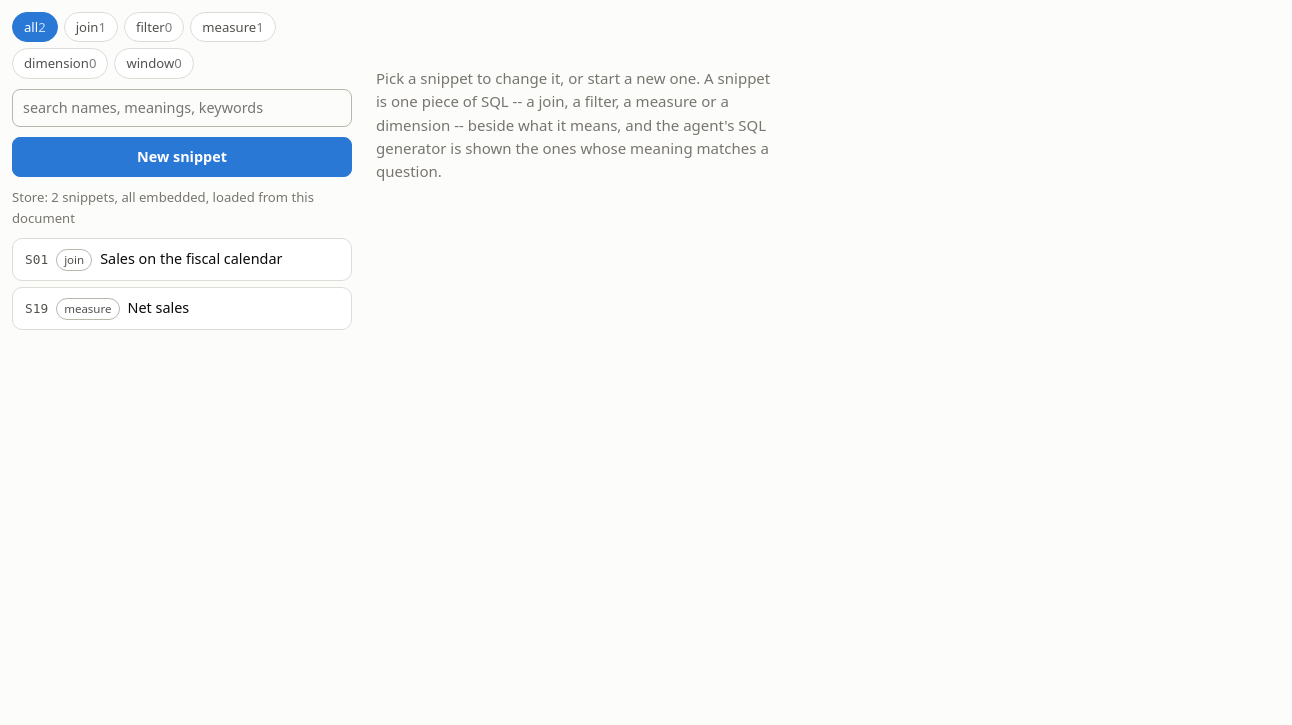
Test: writing one › shows the hint for each kind and none for a kind it does not know
The image size is (1292, 725).
Click the button "New snippet".
click(182, 157)  # box [12,137,352,177]
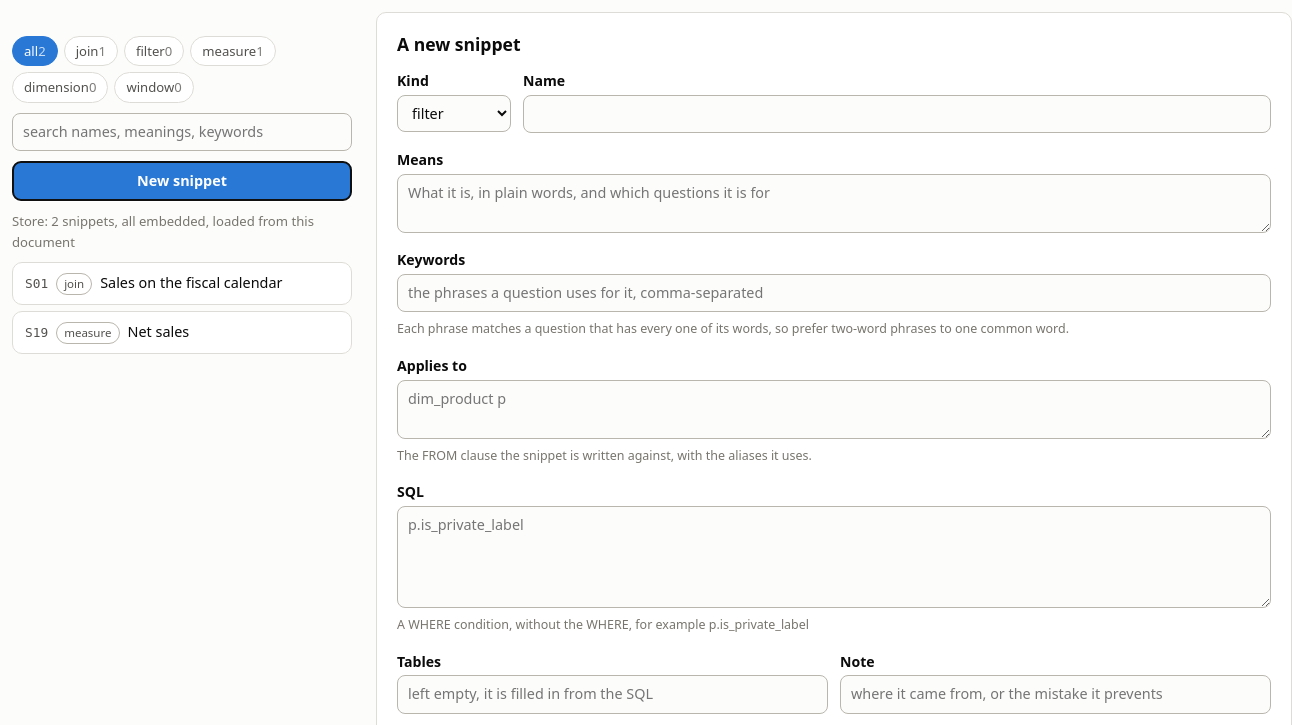
Check: the text "A WHERE condition, without the WHERE" is shown, box [397,616,629,633]
Select "join" in the dropdown labelled "Kind" at (454, 114), box [397,95,511,132]
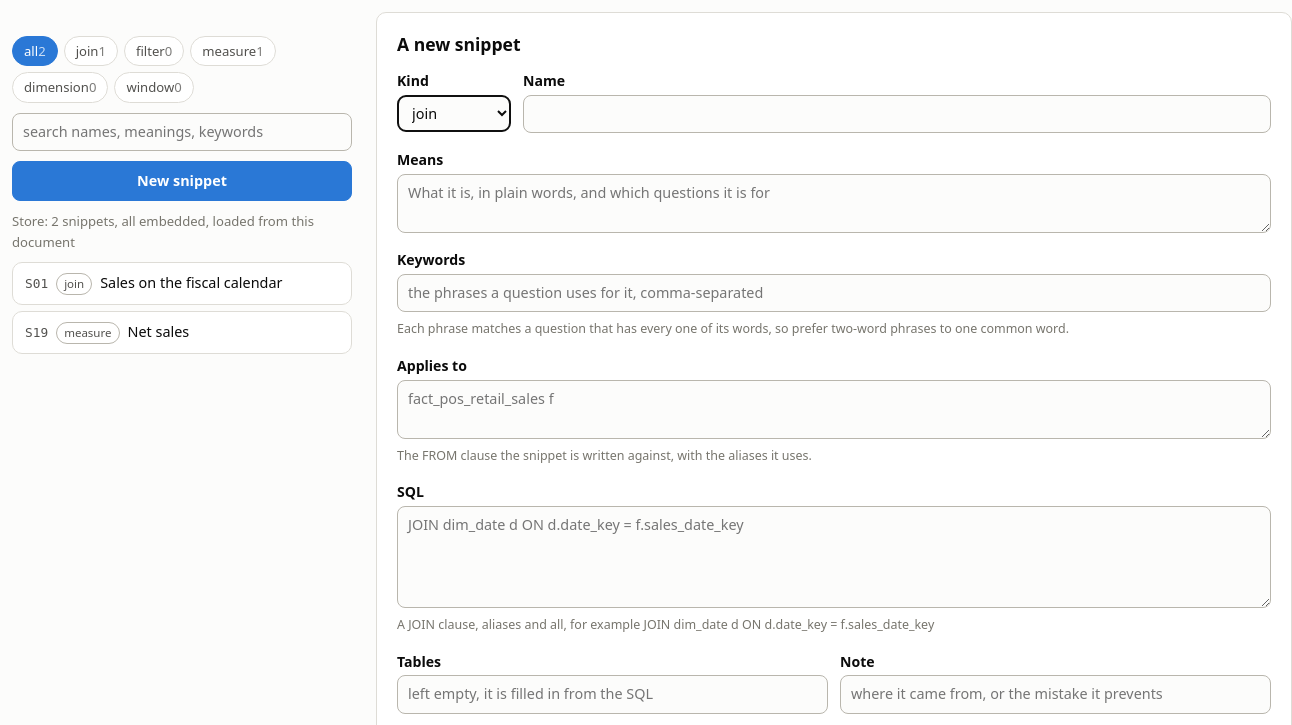
Check: the text "A JOIN clause, aliases and all" is shown, box [397,616,564,633]
Select "window" in the dropdown labelled "Kind" at (454, 114), box [397,95,511,132]
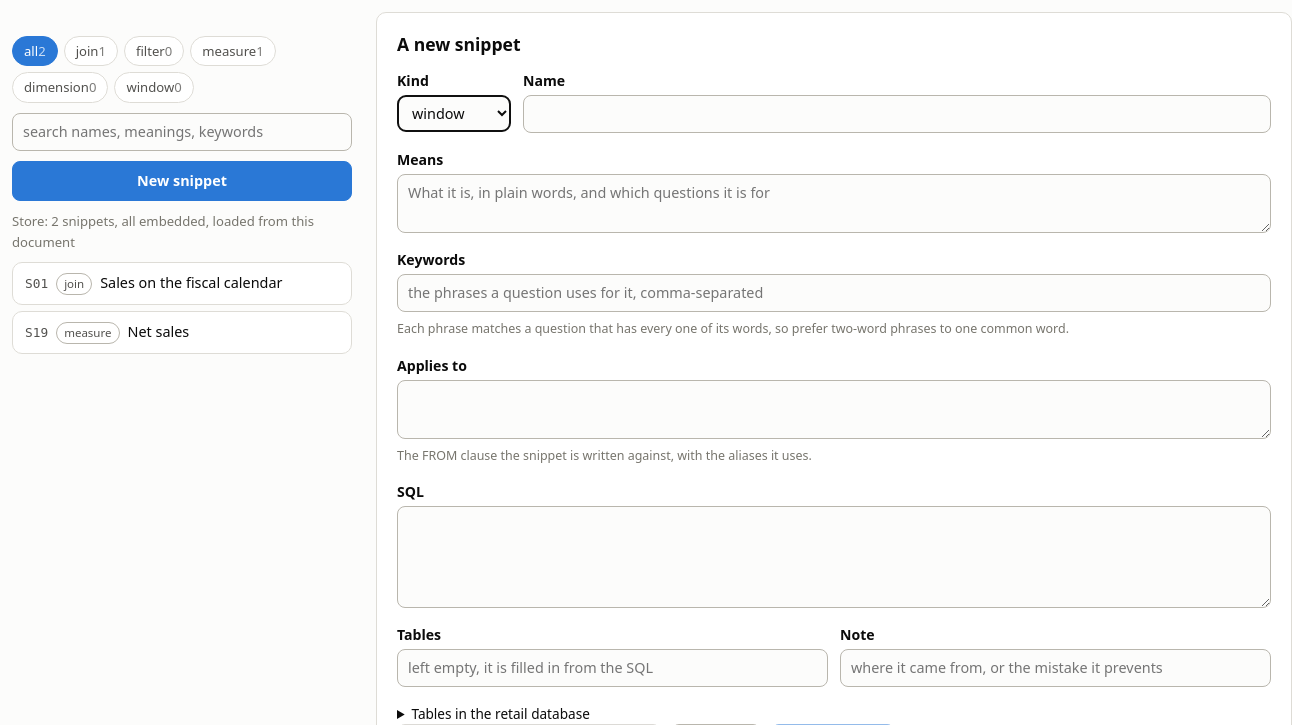
Check: the text "for example" is gone
